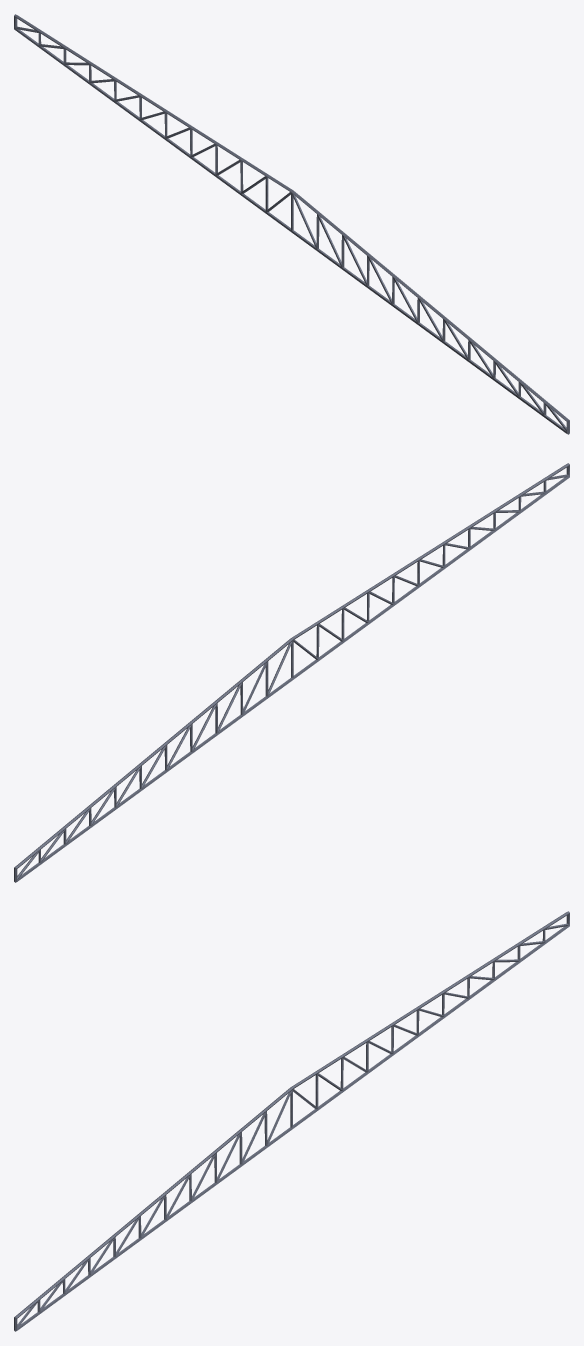
The model's file is WareBig_Detail.glb.
3 views of the same model, one above another, from view 1: azimuth 30°, elevation 25°; view 2: azimuth 150°, elevation 25°; view 3: azimuth 330°, elevation 25° (orthographic).
Visible parts, largest first — view 1: WareBig_Detail; view 2: WareBig_Detail; view 3: WareBig_Detail.
Part boxes in pixels (<box>): WareBig_Detail: <box>14,14,569,434</box>; WareBig_Detail: <box>14,463,569,882</box>; WareBig_Detail: <box>14,911,569,1331</box>.
Bounding box in the file's own units: 0.1195 × 1.52 × 36.2.
1 material, 1 textured.
